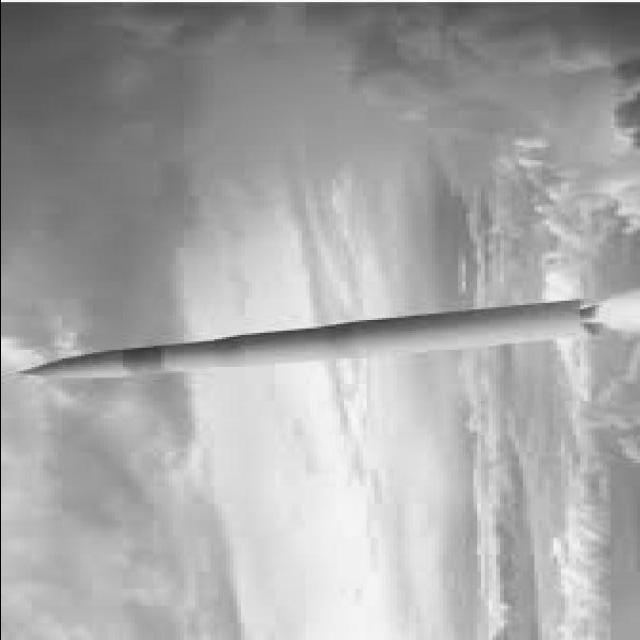Missile: (4, 294, 606, 382)
